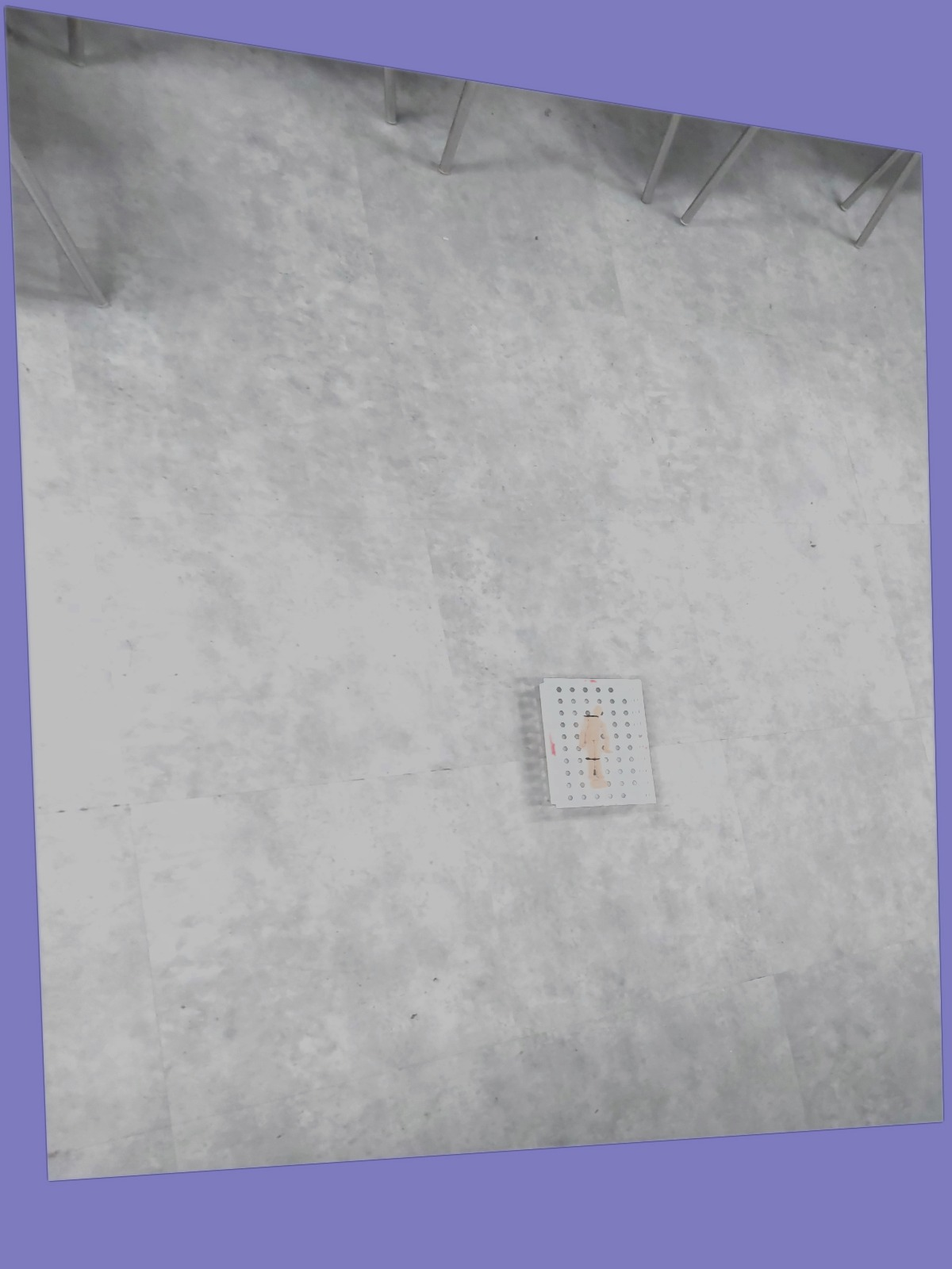basket: (537, 676, 663, 811)
mannequin: (578, 704, 612, 791)
